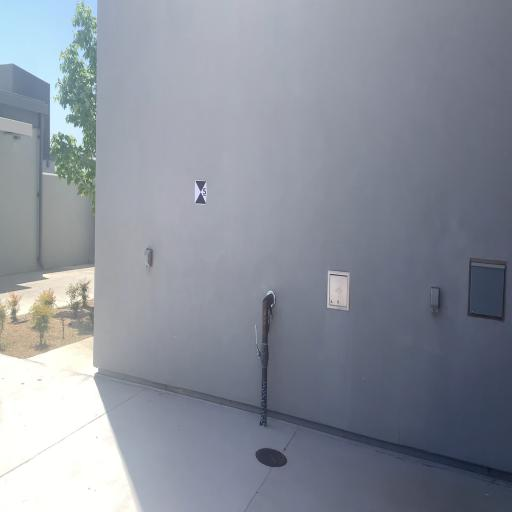target5: (195, 180, 207, 205)
